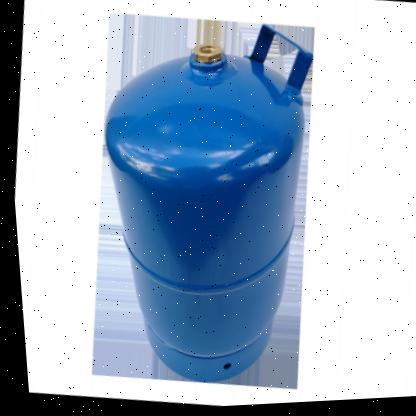gas-tank: (45, 0, 366, 413)
